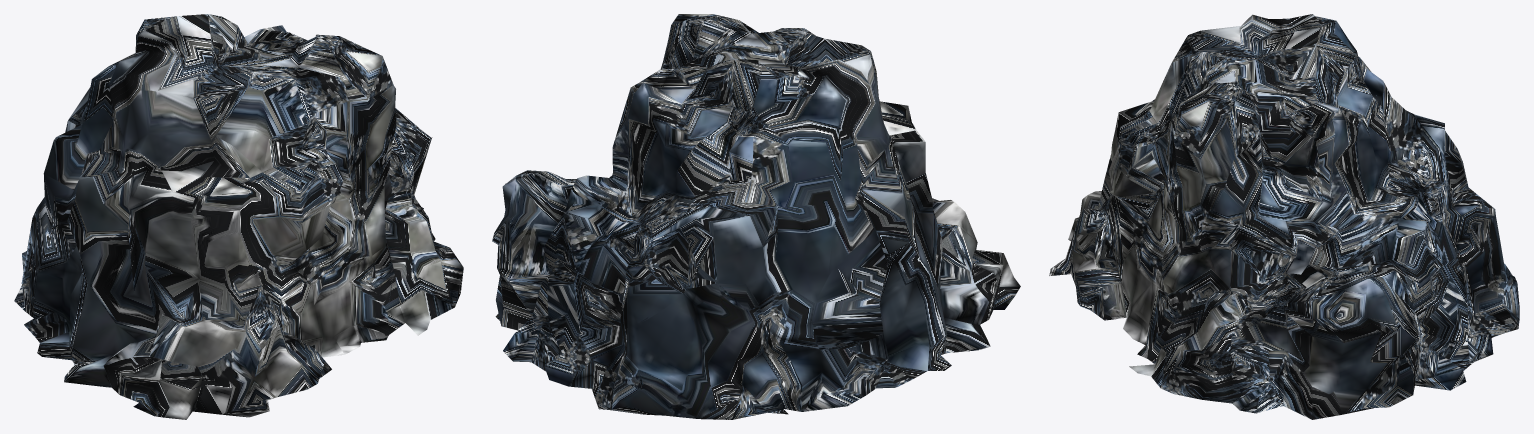
File: snowrock-low.glb
3 renders of one model, left to right at view 1: azimuth 30°, elevation 25°; view 2: azimuth 150°, elevation 25°; view 3: azimuth 270°, elevation 25°, orthographic. The views are drawn at different scales.
Size of the model in its own units: 0.9827 by 0.6238 by 0.9736.
1 material, 1 textured.
